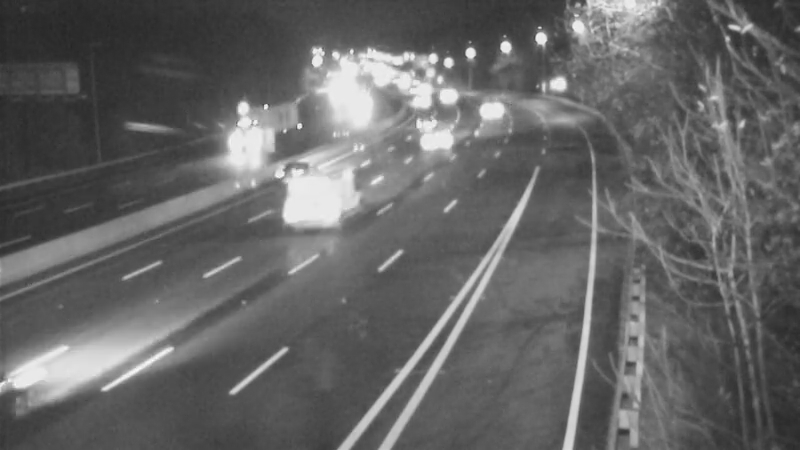vehicle: (1, 332, 90, 442), (244, 133, 324, 213), (271, 163, 351, 243), (427, 72, 477, 122), (393, 80, 443, 130), (461, 85, 511, 135), (396, 99, 446, 149), (414, 114, 464, 164), (222, 118, 272, 168)
